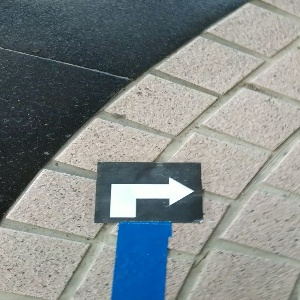right: (94, 161, 203, 222)
